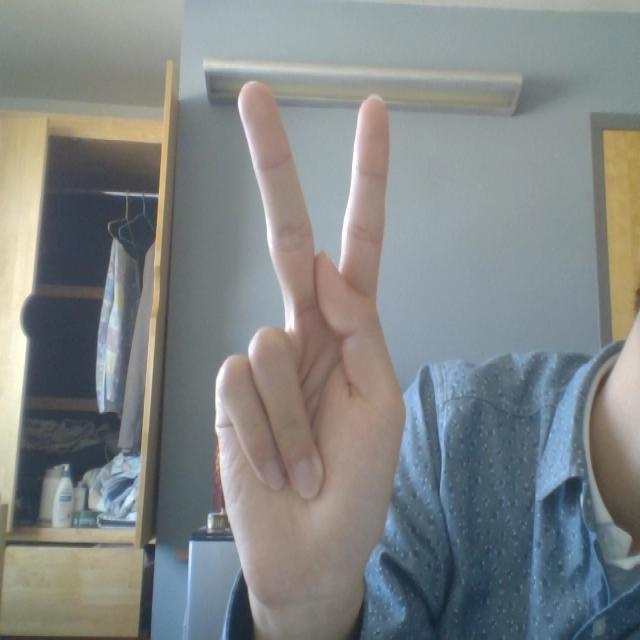K: (179, 37, 455, 640)
